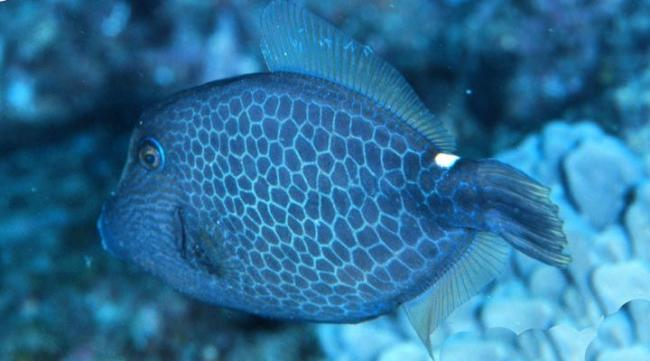fish: (99, 4, 572, 327)
